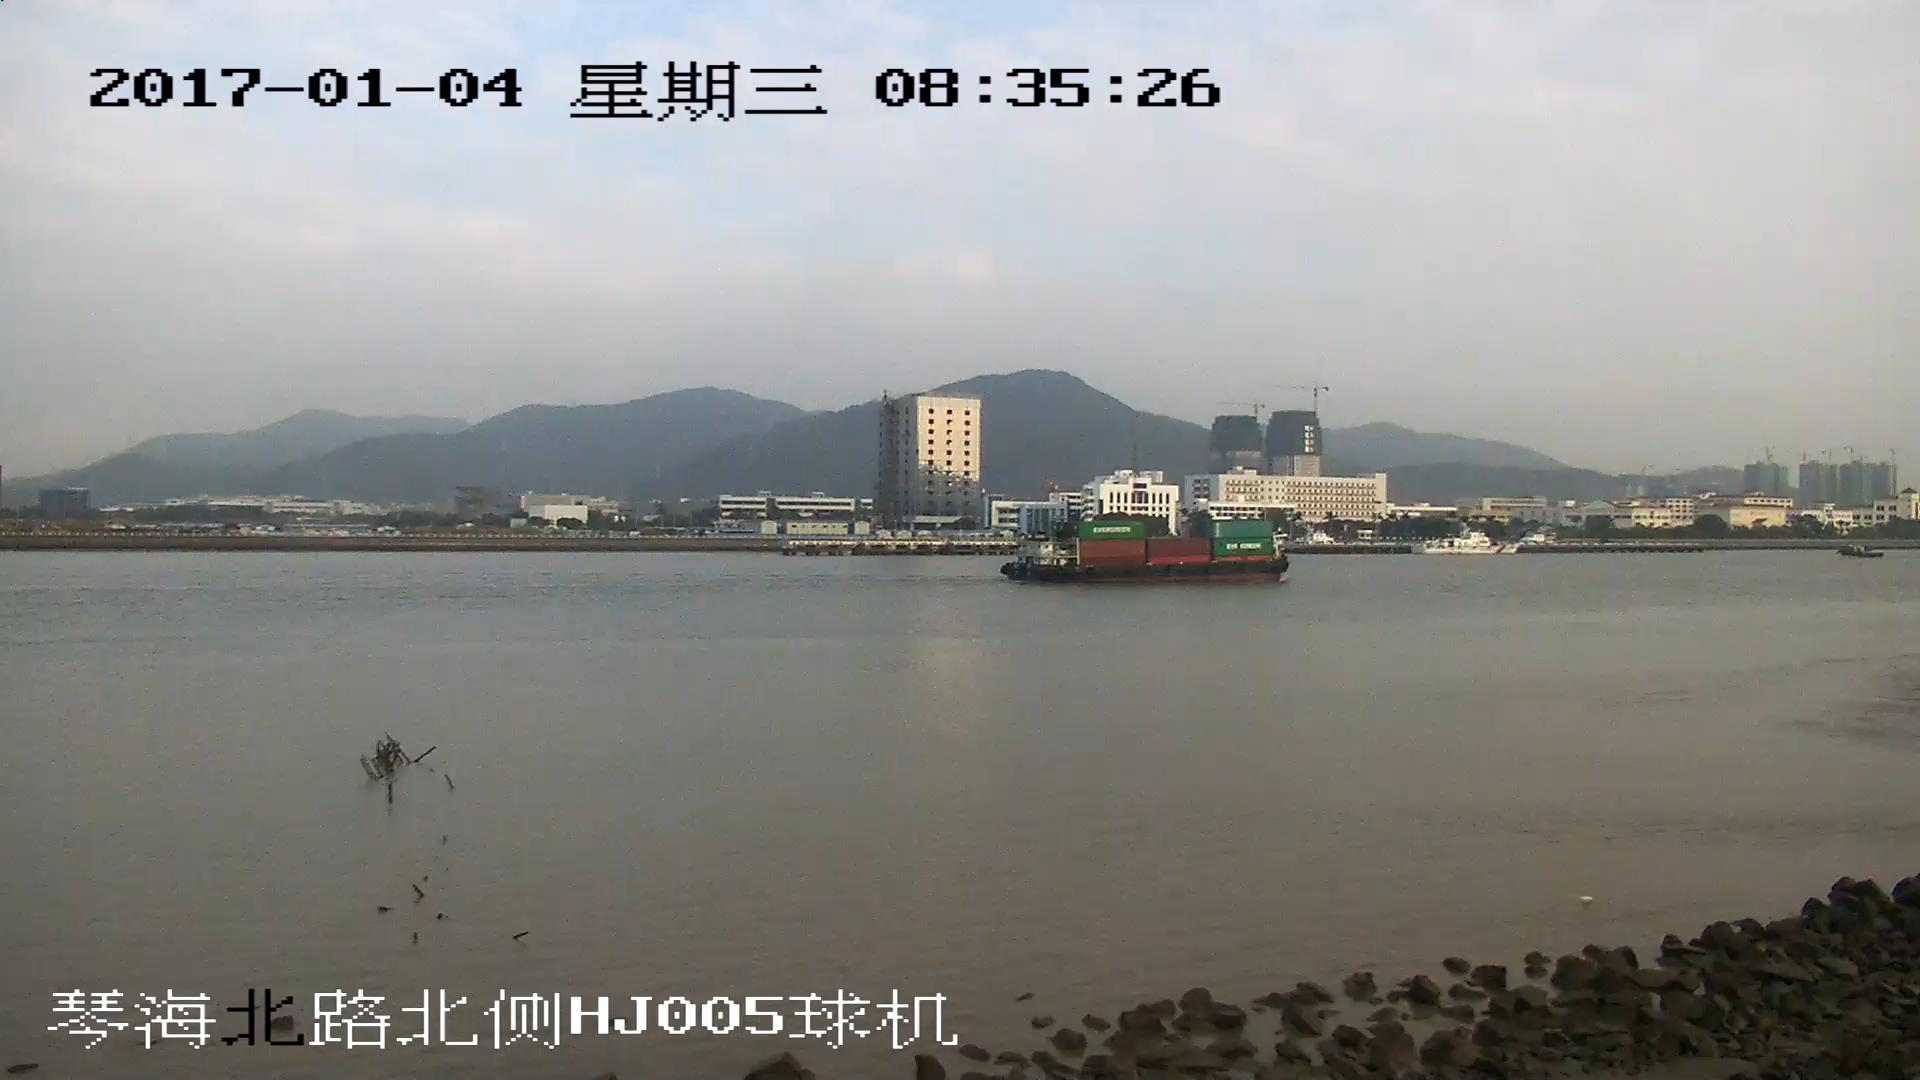container ship: (1003, 519, 1287, 582)
